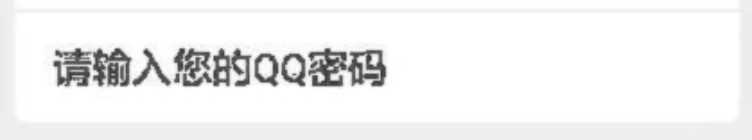EditText: (1, 1, 751, 139)
